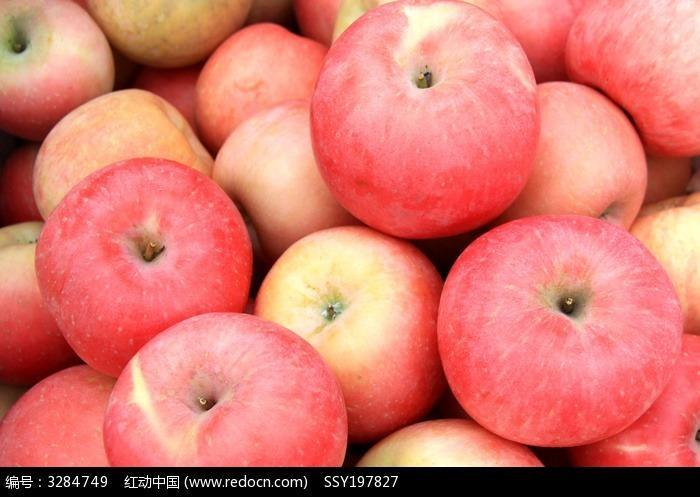apple: (433, 208, 684, 449), (309, 1, 536, 237), (26, 159, 255, 382), (254, 221, 447, 437), (101, 310, 353, 469), (29, 86, 212, 223), (1, 1, 112, 145), (1, 224, 75, 385), (625, 197, 700, 335), (299, 1, 388, 46)
